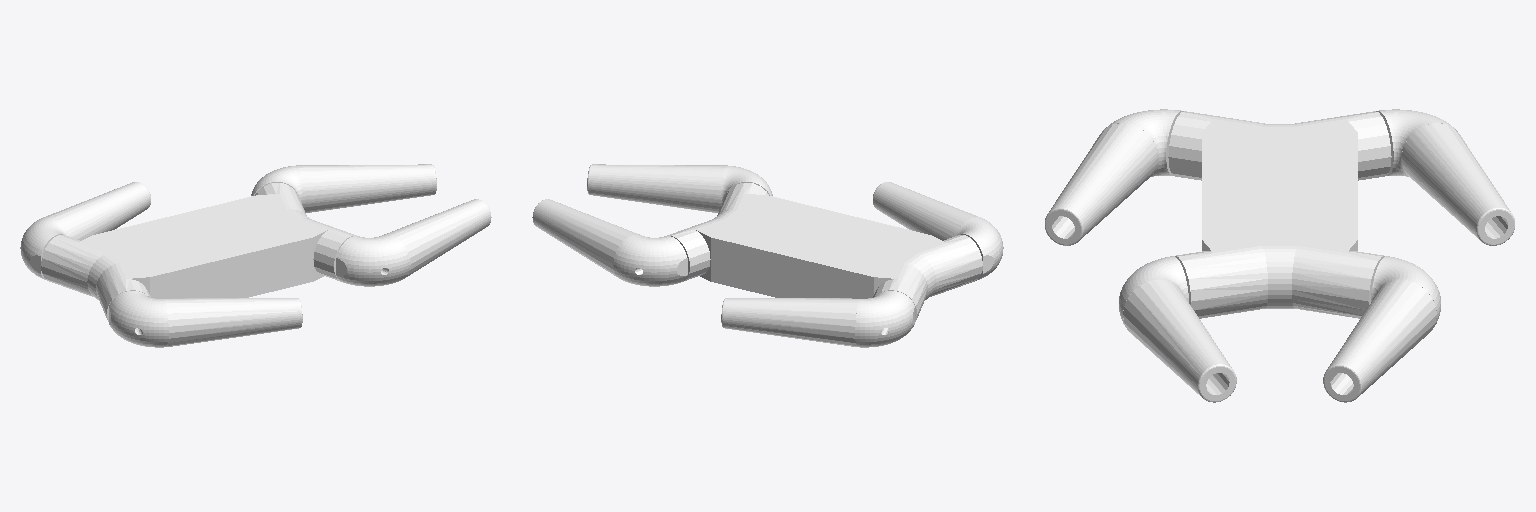
robot.urdf — 20_long_leg:
<?xml version="1.0" encoding="utf-8"?>
<!-- This URDF was automatically created by SolidWorks to URDF Exporter! Originally created by [author] ([email redacted]) 
     Commit Version: 1.5.1-0-g916b5db  Build Version: 1.5.7152.31018
     For more information, please see http://wiki.ros.org/sw_urdf_exporter -->
<robot
  name="20_long_leg">
  <link
    name="base_link">
    <inertial>
      <origin
        xyz="6.9389E-18 4.343E-08 1.1469E-08"
        rpy="0 0 0" />
      <mass
        value="2.942" />
      <inertia
        ixx="0.0097782"
        ixy="1.2604E-07"
        ixz="-1.5417E-10"
        iyy="0.0454356"
        iyz="-7.9739E-18"
        izz="0.0528029" />
    </inertial>
    <visual>
      <origin
        xyz="0 0 0"
        rpy="0 0 0" />
      <geometry>
        <mesh
          filename="package://20_long_leg/meshes/base_link.STL" />
      </geometry>
      <material
        name="">
        <color
          rgba="1 1 1 1" />
      </material>
    </visual>
    <collision>
      <origin
        xyz="0 0 0"
        rpy="0 0 0" />
      <geometry>
        <mesh
          filename="package://20_long_leg/meshes/base_link.STL" />
      </geometry>
    </collision>
  </link>
  <link
    name="left_front_link">
    <inertial>
      <origin
        xyz="-9.2243E-08 0.07384 -0.036527"
        rpy="0 0 0" />
      <mass
        value="0.105" />
      <inertia
        ixx="0.0004720"
        ixy="7.9206E-10"
        ixz="8.8613E-10"
        iyy="0.0000572"
        iyz="0.0000292"
        izz="0.0004690" />
    </inertial>
    <visual>
      <origin
        xyz="0 0 0"
        rpy="0 0 0" />
      <geometry>
        <mesh
          filename="package://20_long_leg/meshes/left_front_link.STL" />
      </geometry>
      <material
        name="">
        <color
          rgba="1 1 1 1" />
      </material>
    </visual>
    <collision>
      <origin
        xyz="0 0 0"
        rpy="0 0 0" />
      <geometry>
        <mesh
          filename="package://20_long_leg/meshes/left_front_link.STL" />
      </geometry>
    </collision>
  </link>
  <joint
    name="left_front_leg"
    type="continuous">
    <origin
      xyz="0.16523 0.096788 0"
      rpy="1.9199 1.5708 0" />
    <parent
      link="base_link" />
    <child
      link="left_front_link" />
    <axis
      xyz="0 0 -1" />
    <limit
      effort="5"
      velocity="487" />
  </joint>
  <link
    name="right_front_link">
    <inertial>
      <origin
        xyz="9.3038E-08 0.07384 0.036527"
        rpy="0 0 0" />
      <mass
        value="0.105" />
      <inertia
        ixx="0.0004720"
        ixy="-7.649E-10"
        ixz="8.9582E-10"
        iyy="0.0000572"
        iyz="-0.0000292"
        izz="0.0004690" />
    </inertial>
    <visual>
      <origin
        xyz="0 0 0"
        rpy="0 0 0" />
      <geometry>
        <mesh
          filename="package://20_long_leg/meshes/right_front_link.STL" />
      </geometry>
      <material
        name="">
        <color
          rgba="1 1 1 1" />
      </material>
    </visual>
    <collision>
      <origin
        xyz="0 0 0"
        rpy="0 0 0" />
      <geometry>
        <mesh
          filename="package://20_long_leg/meshes/right_front_link.STL" />
      </geometry>
    </collision>
  </link>
  <joint
    name="right_front_leg"
    type="continuous">
    <origin
      xyz="0.16523 -0.096788 0"
      rpy="1.2217 1.5708 0" />
    <parent
      link="base_link" />
    <child
      link="right_front_link" />
    <axis
      xyz="0 0 1" />
    <limit
      effort="5"
      velocity="487" />
  </joint>
  <link
    name="right_back_link">
    <inertial>
      <origin
        xyz="7.3007E-08 0.073841 0.036527"
        rpy="0 0 0" />
      <mass
        value="0.105" />
      <inertia
        ixx="0.0004720"
        ixy="-2.5527E-10"
        ixz="9.0693E-10"
        iyy="0.0000572"
        iyz="-0.0000292"
        izz="0.0004690" />
    </inertial>
    <visual>
      <origin
        xyz="0 0 0"
        rpy="0 0 0" />
      <geometry>
        <mesh
          filename="package://20_long_leg/meshes/right_back_link.STL" />
      </geometry>
      <material
        name="">
        <color
          rgba="1 1 1 1" />
      </material>
    </visual>
    <collision>
      <origin
        xyz="0 0 0"
        rpy="0 0 0" />
      <geometry>
        <mesh
          filename="package://20_long_leg/meshes/right_back_link.STL" />
      </geometry>
    </collision>
  </link>
  <joint
    name="right_back_leg"
    type="continuous">
    <origin
      xyz="-0.16523 -0.096788 0"
      rpy="1.9199 1.5708 0" />
    <parent
      link="base_link" />
    <child
      link="right_back_link" />
    <axis
      xyz="0 0 1" />
    <limit
      effort="5"
      velocity="487" />
  </joint>
  <link
    name="left_back_link">
    <inertial>
      <origin
        xyz="-7.3007E-08 0.073841 -0.036527"
        rpy="0 0 0" />
      <mass
        value="0.105" />
      <inertia
        ixx="0.0004720"
        ixy="2.5527E-10"
        ixz="9.0693E-10"
        iyy="0.0000572"
        iyz="0.0000292"
        izz="0.0004690" />
    </inertial>
    <visual>
      <origin
        xyz="0 0 0"
        rpy="0 0 0" />
      <geometry>
        <mesh
          filename="package://20_long_leg/meshes/left_back_link.STL" />
      </geometry>
      <material
        name="">
        <color
          rgba="1 1 1 1" />
      </material>
    </visual>
    <collision>
      <origin
        xyz="0 0 0"
        rpy="0 0 0" />
      <geometry>
        <mesh
          filename="package://20_long_leg/meshes/left_back_link.STL" />
      </geometry>
    </collision>
  </link>
  <joint
    name="left_back_leg"
    type="continuous">
    <origin
      xyz="-0.16523 0.096788 0"
      rpy="1.2217 1.5708 0" />
    <parent
      link="base_link" />
    <child
      link="left_back_link" />
    <axis
      xyz="0 0 -1" />
    <limit
      effort="5"
      velocity="487" />
  </joint>
</robot>

--- Facts derived from the render (not from the file) ---
3 views of the same robot in one strip: view 1: azimuth 30°, elevation 25°; view 2: azimuth 150°, elevation 25°; view 3: azimuth 270°, elevation 25° (orthographic).
Model 20_long_leg with 5 links and 4 joints (4 continuous), rooted at base_link, posed all joints at 0.
Links seen in each view (by area): view 1: base_link, right_back_link, right_front_link, left_front_link, left_back_link; view 2: base_link, left_back_link, left_front_link, right_front_link, right_back_link; view 3: base_link, right_back_link, left_back_link, left_front_link, right_front_link.
Link boxes in pixels (x1,y1,x2,y2): base_link: (41,183,356,321); right_back_link: (109,291,302,347); right_front_link: (336,199,491,286); left_front_link: (251,164,436,212); left_back_link: (20,182,150,280); base_link: (667,183,982,321); left_back_link: (721,291,914,347); left_front_link: (532,199,687,286); right_front_link: (587,164,772,212); right_back_link: (873,182,1003,280); base_link: (1168,111,1391,318); right_back_link: (1045,109,1183,245); left_back_link: (1376,109,1514,245); left_front_link: (1323,256,1440,402); right_front_link: (1119,256,1236,402).
Bounding box of the posed robot: 0.5903 × 0.4549 × 0.064 m (x, y, z).
Meshes: 5 distinct files referenced, 5 mesh visuals loaded (5 binary STL).